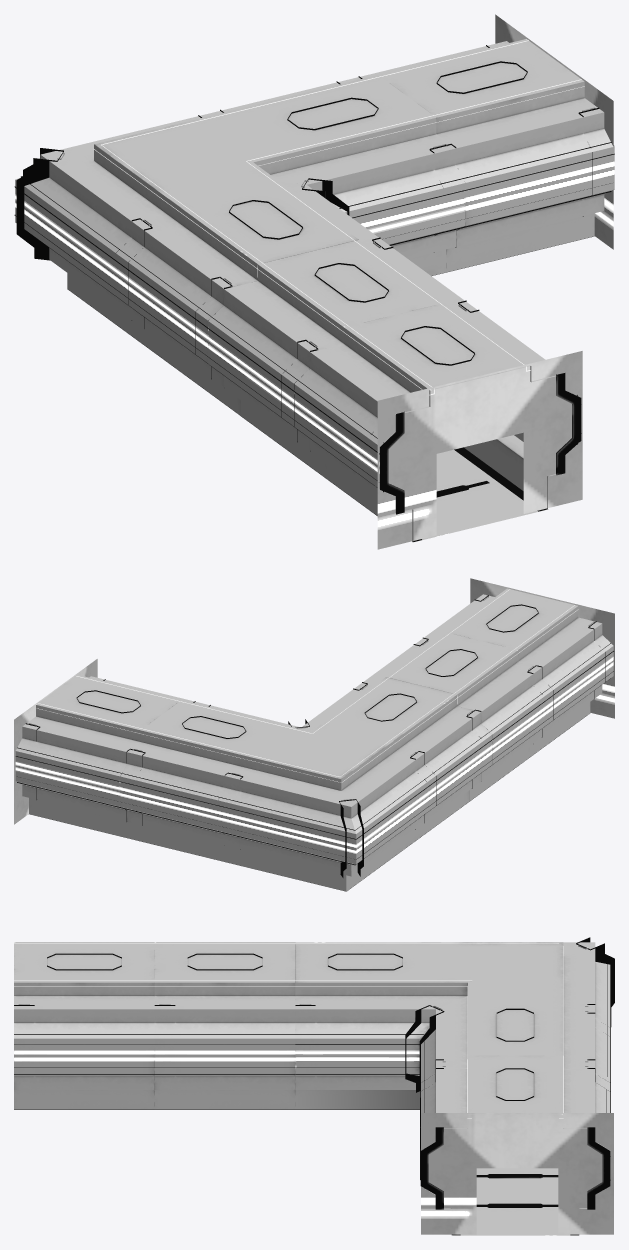
File: Conexiones04.fbx
3 renders of one model, top to bottom at view 1: azimuth 30°, elevation 25°; view 2: azimuth 150°, elevation 25°; view 3: azimuth 270°, elevation 25°, orthographic. The views are drawn at different scales.
Visible parts, largest first — view 1: Conexiones04; view 2: Conexiones04; view 3: Conexiones04.
Boxes of the visible parts, <box> form: Conexiones04: <box>14,14,614,549</box>; Conexiones04: <box>14,578,614,891</box>; Conexiones04: <box>14,937,614,1235</box>.
Bounding box in the file's own units: 1438 × 422 × 1879.
